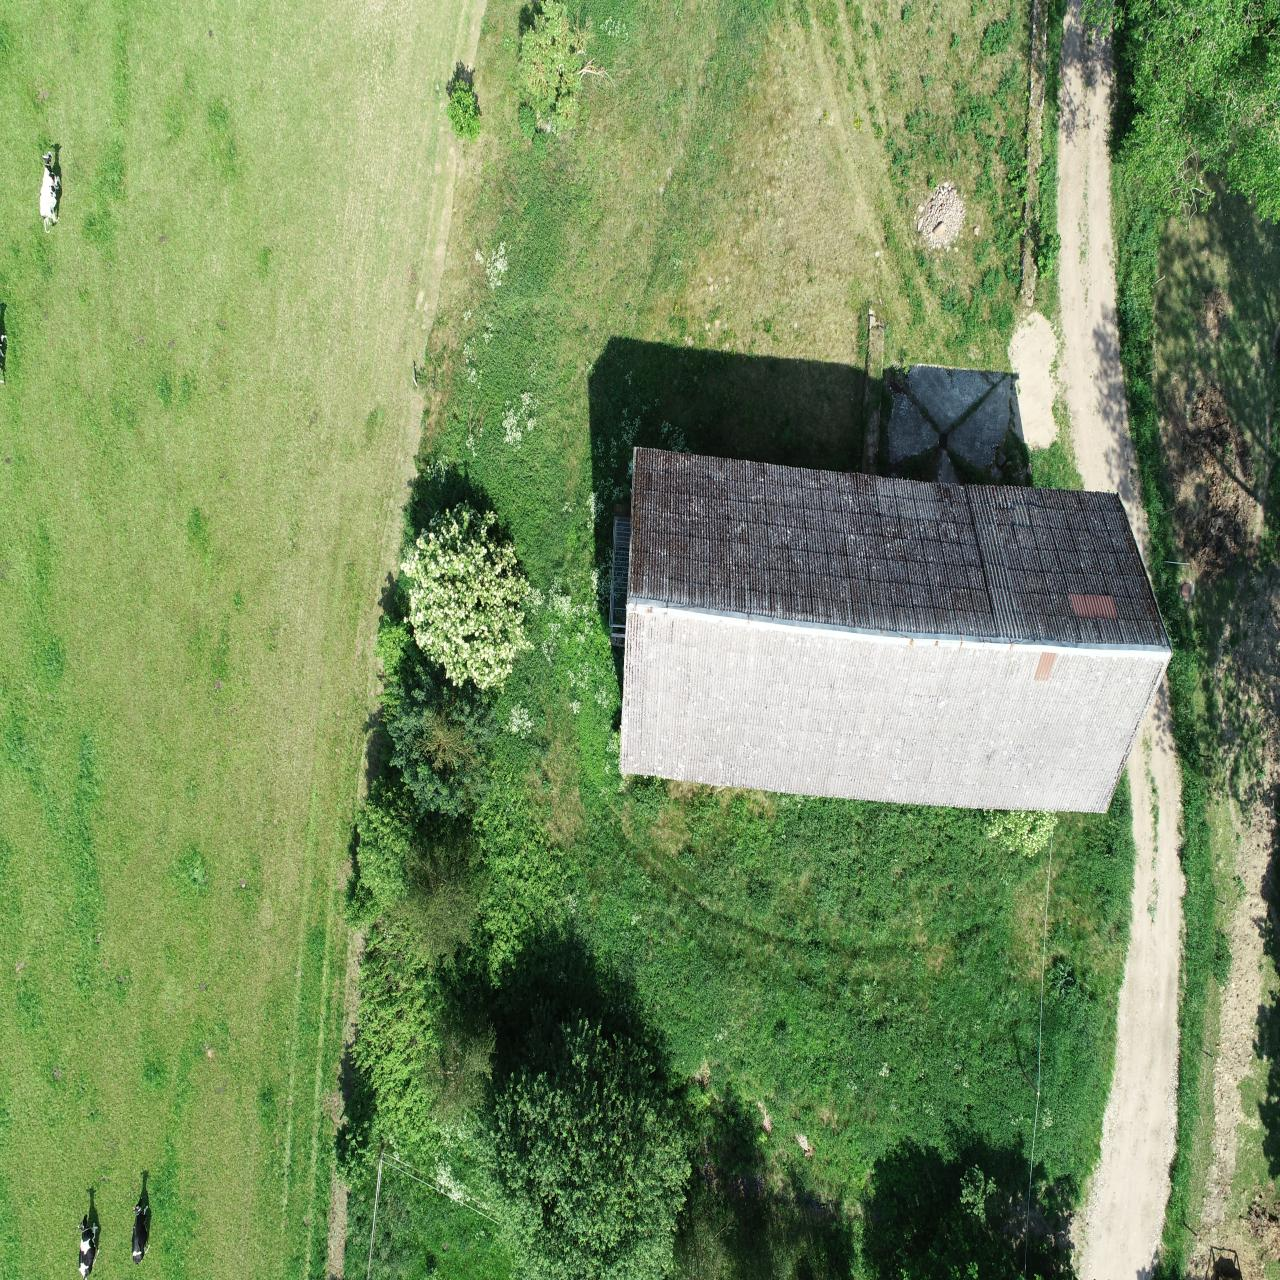cow: (33, 138, 68, 238), (73, 1212, 101, 1279), (129, 1199, 151, 1265)
